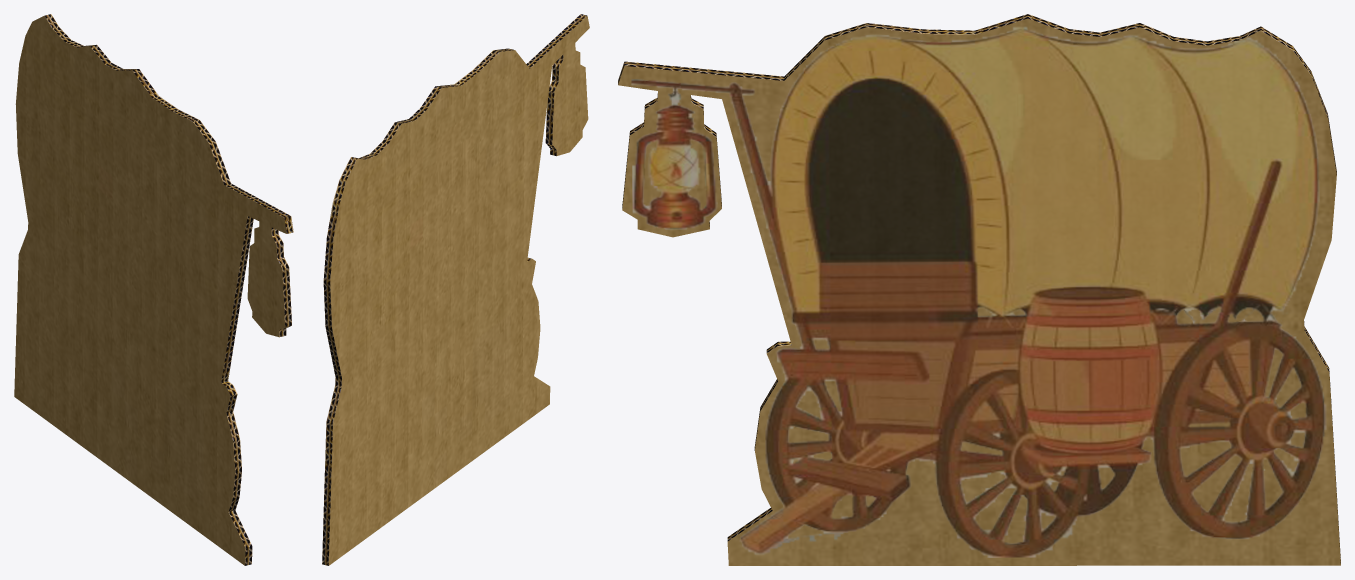
Rendered from AST_GRAPH_caravane_2_GJ.fbx.
3 views of the same model, side by side, from view 1: azimuth 30°, elevation 25°; view 2: azimuth 150°, elevation 25°; view 3: azimuth 270°, elevation 25° (orthographic). The views are drawn at different scales.
Visible parts, largest first — view 1: Plane; view 2: Plane; view 3: Plane.
Part boxes in pixels (x1=…): Plane: x1=14, y1=14, x2=293, y2=565; Plane: x1=322, y1=14, x2=589, y2=565; Plane: x1=618, y1=14, x2=1340, y2=565.
Bounding box in the file's own units: 2 × 113 × 136.
